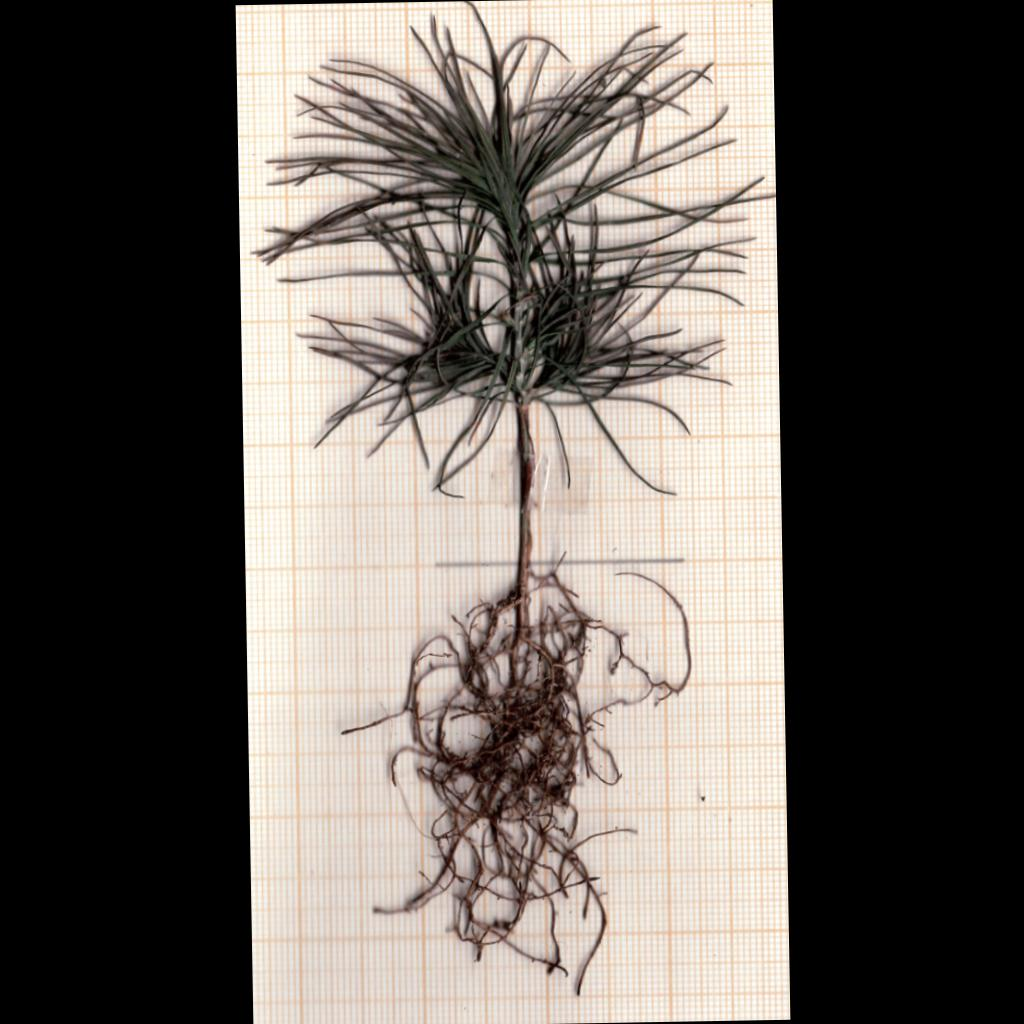flowerCedr: (261, 1, 760, 492)
rootCedr: (343, 572, 692, 995)
stemCedr: (517, 402, 536, 597)
